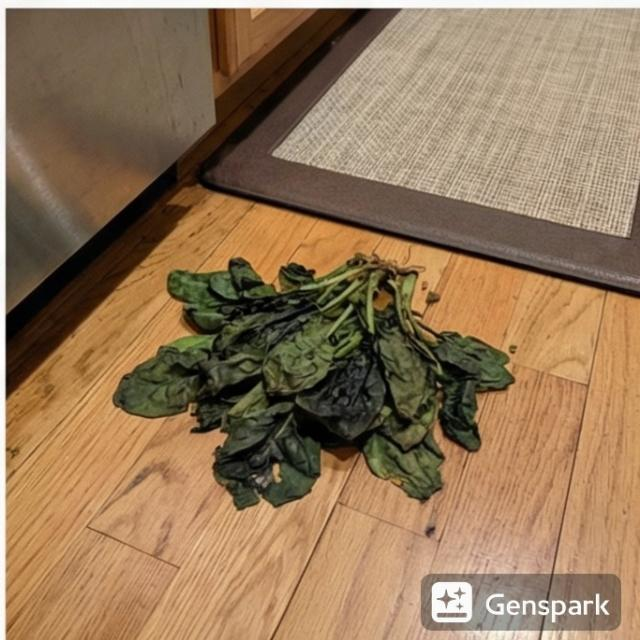rotten spinach: (88, 230, 551, 548)
